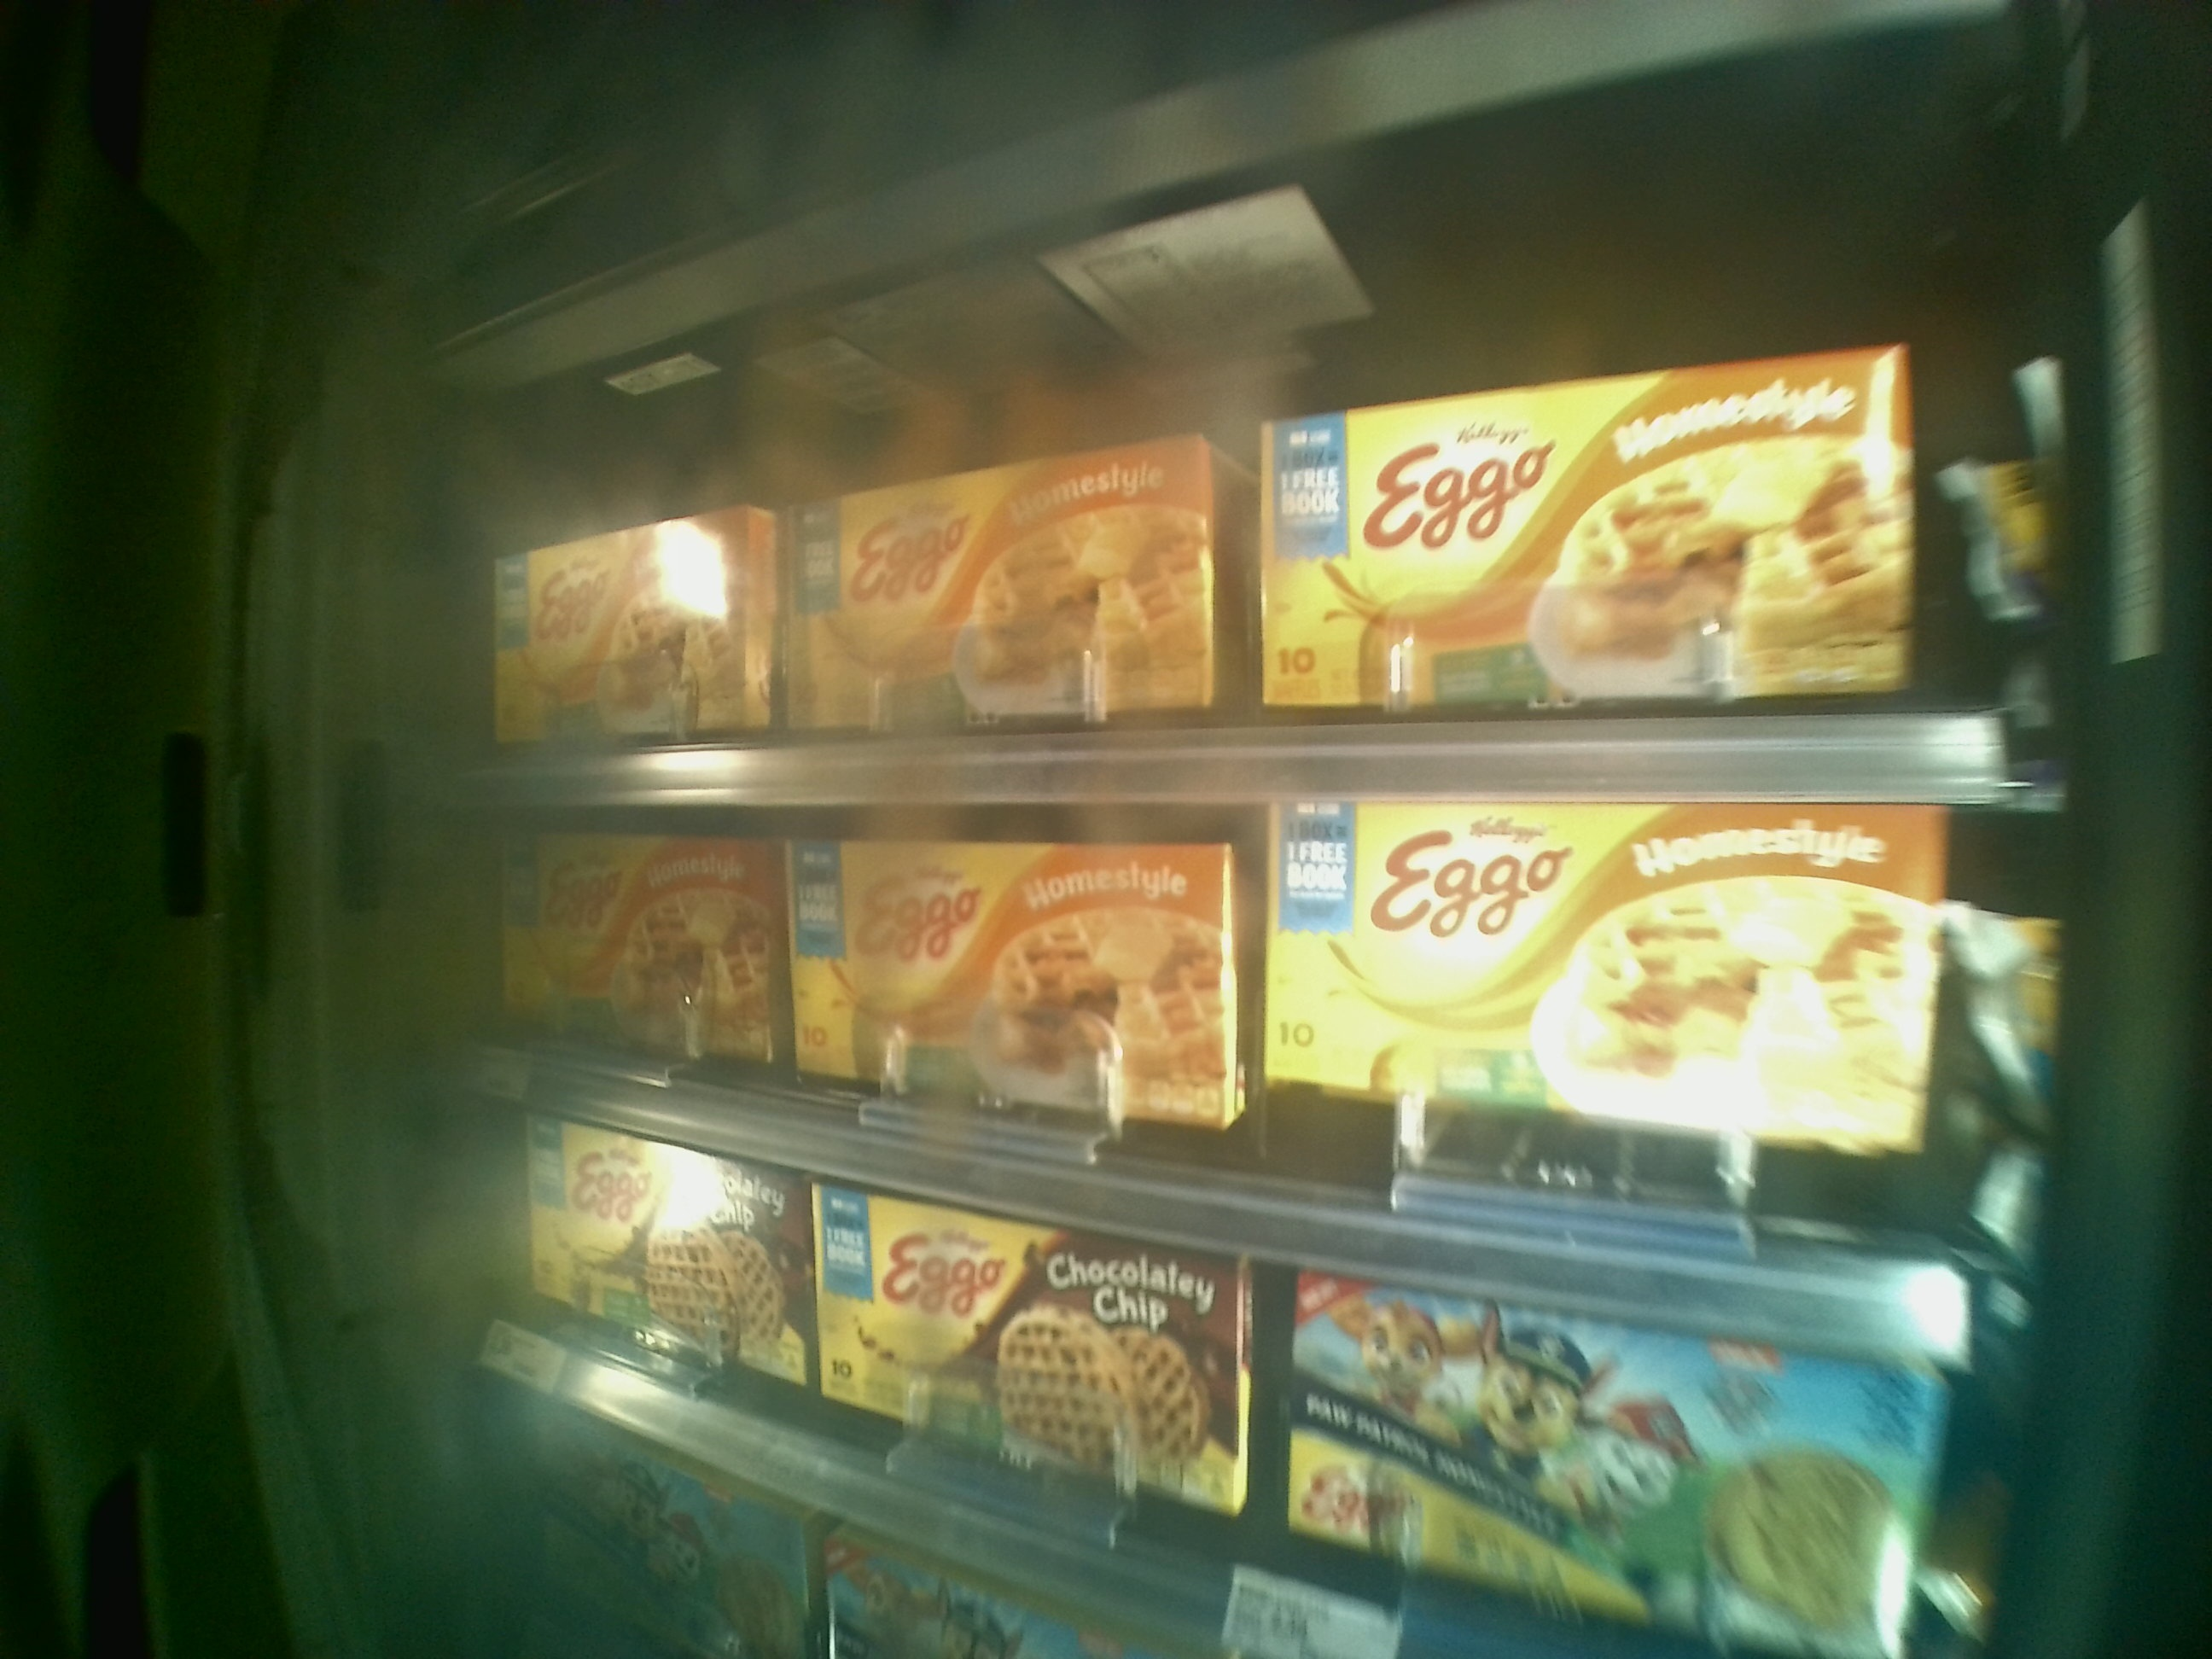shelf: (442, 807, 2054, 1342), (448, 373, 2054, 807)
